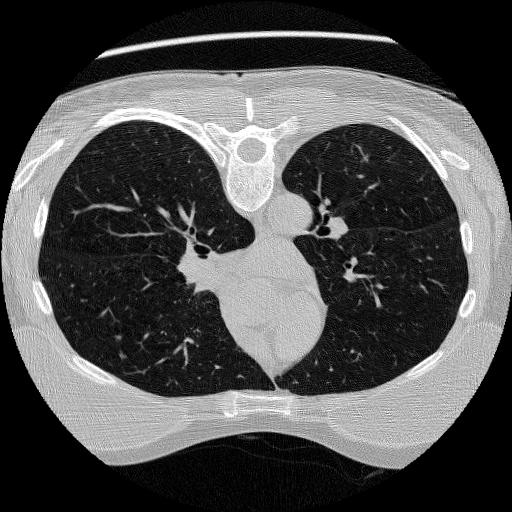nodule: (116, 350, 128, 362)
